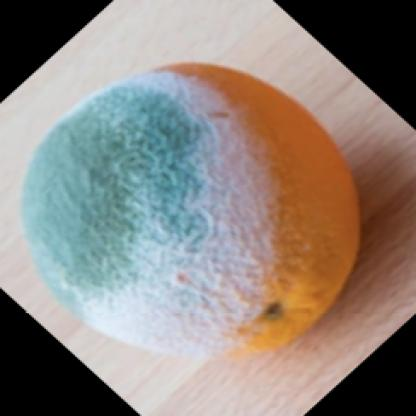rotten: (20, 64, 359, 357)
